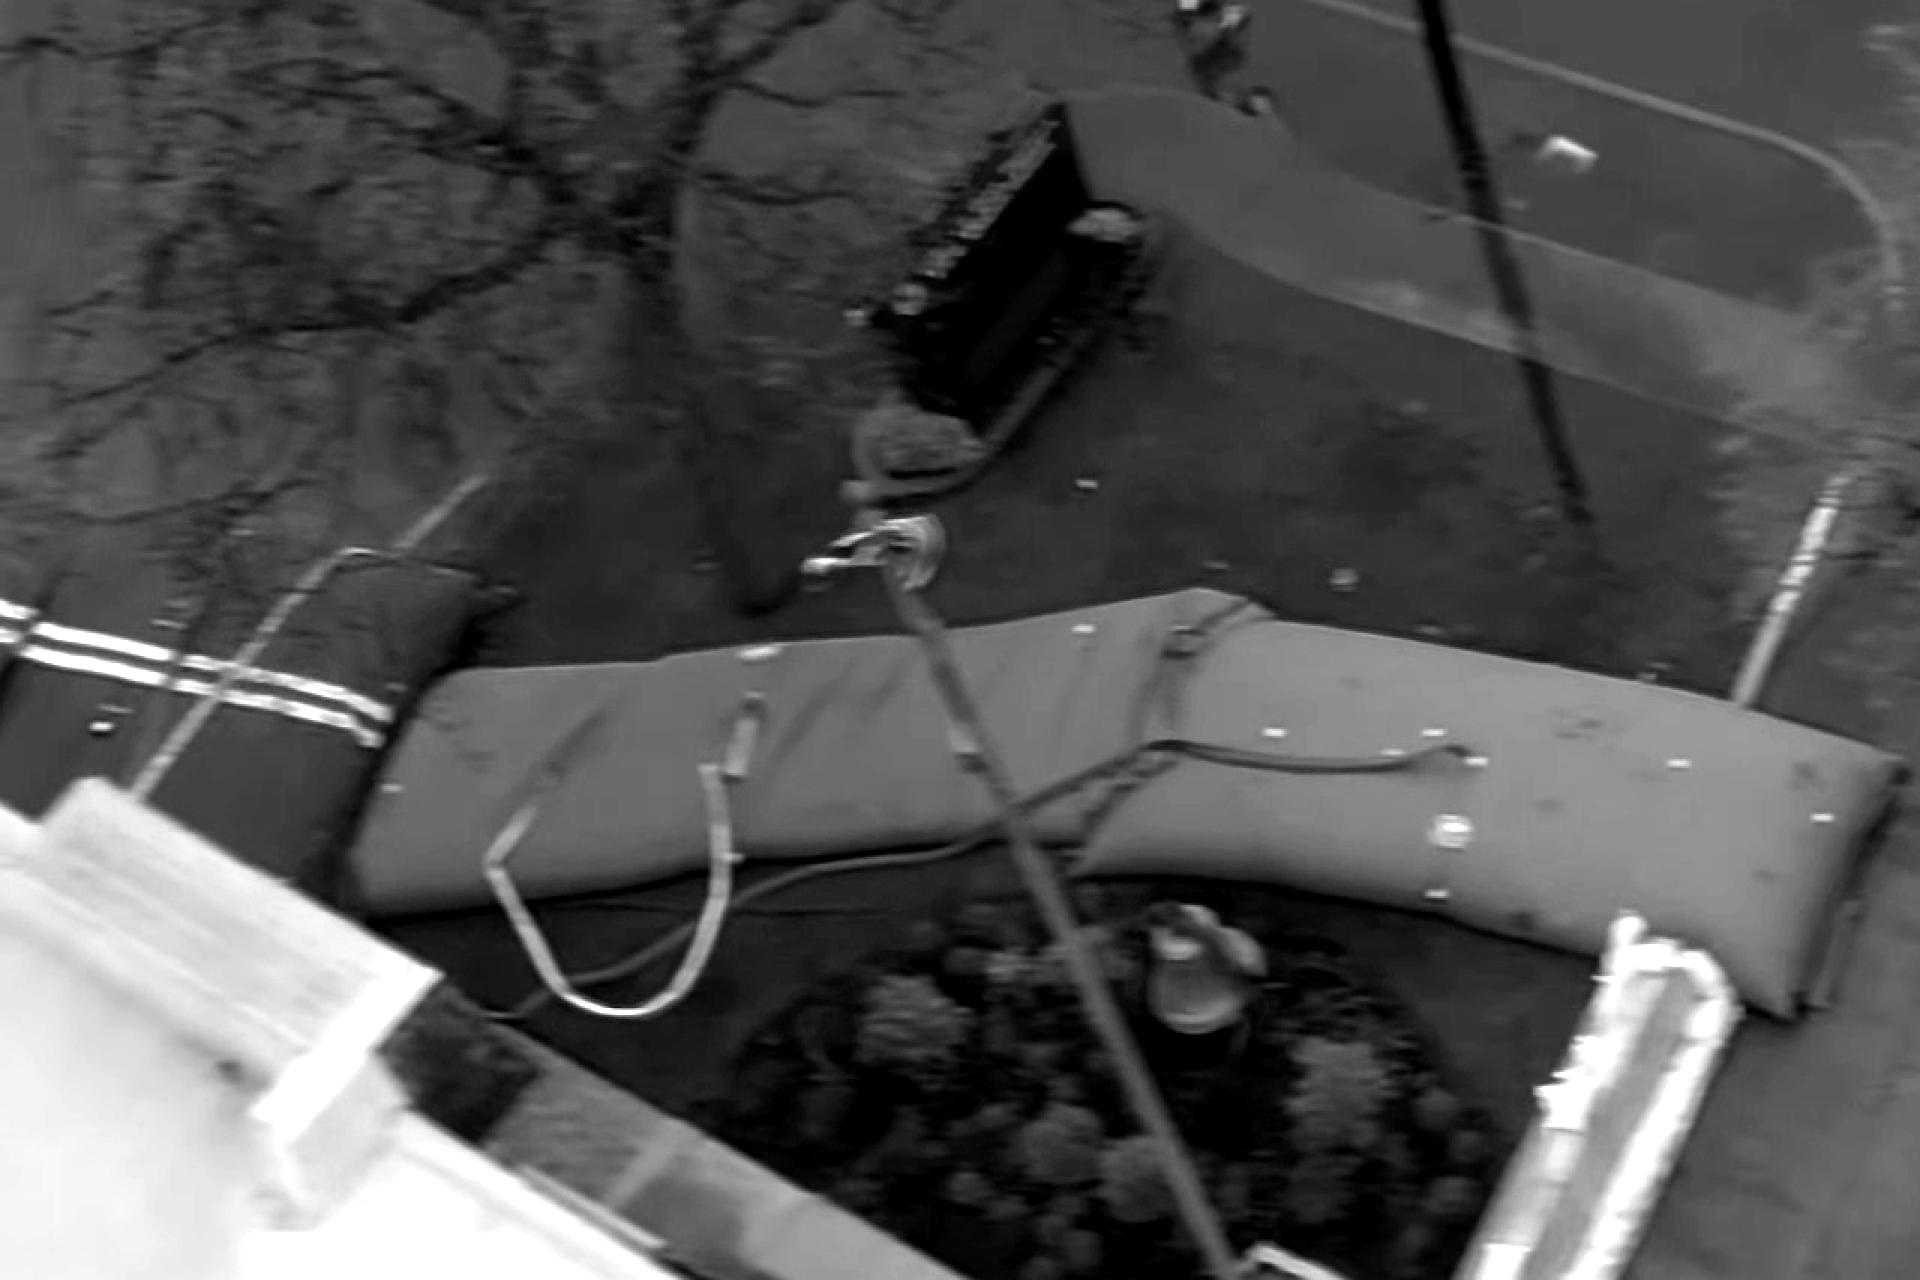House: (1, 828, 850, 1280)
